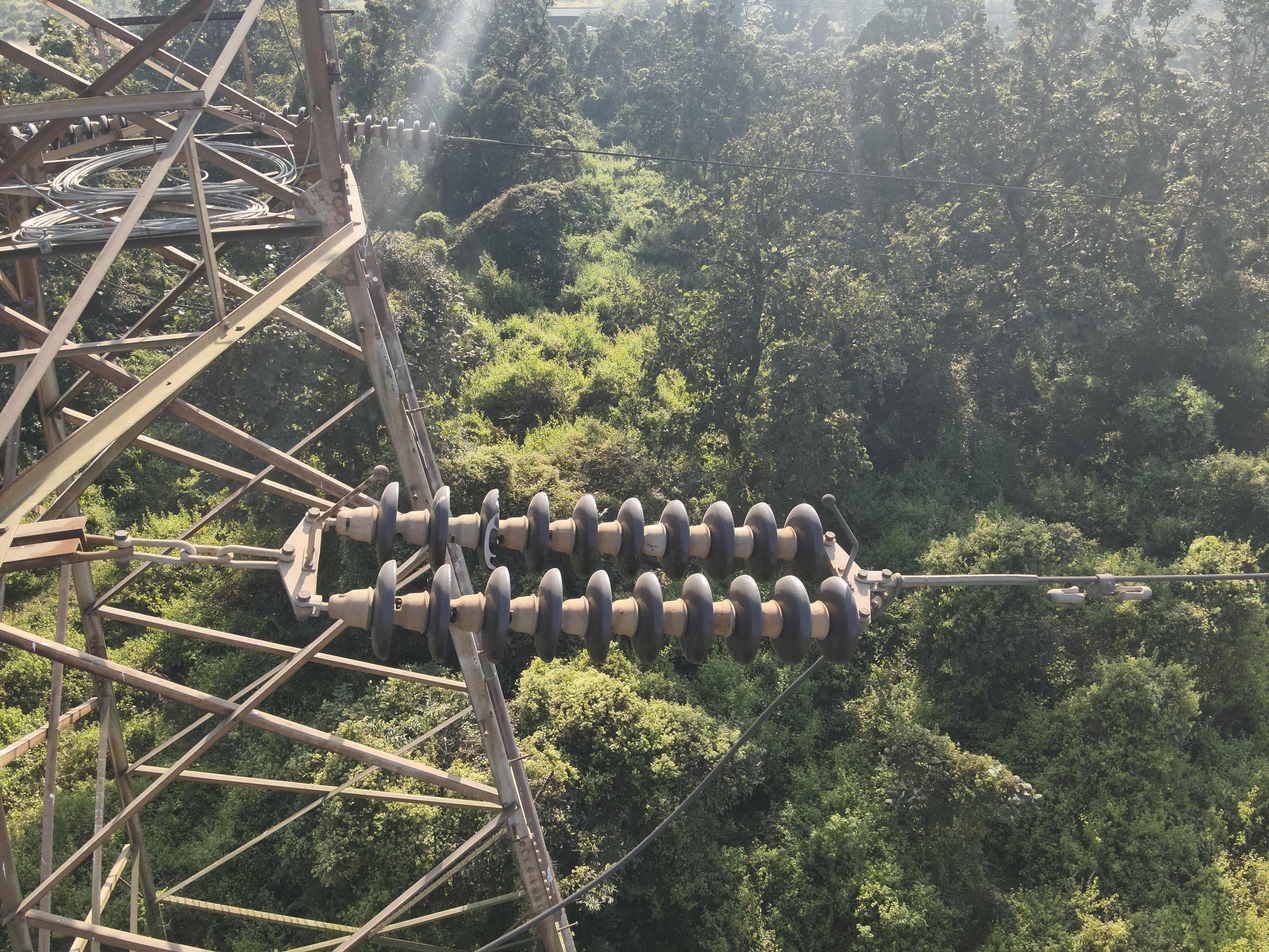broken_insulator: (466, 482, 512, 574)
